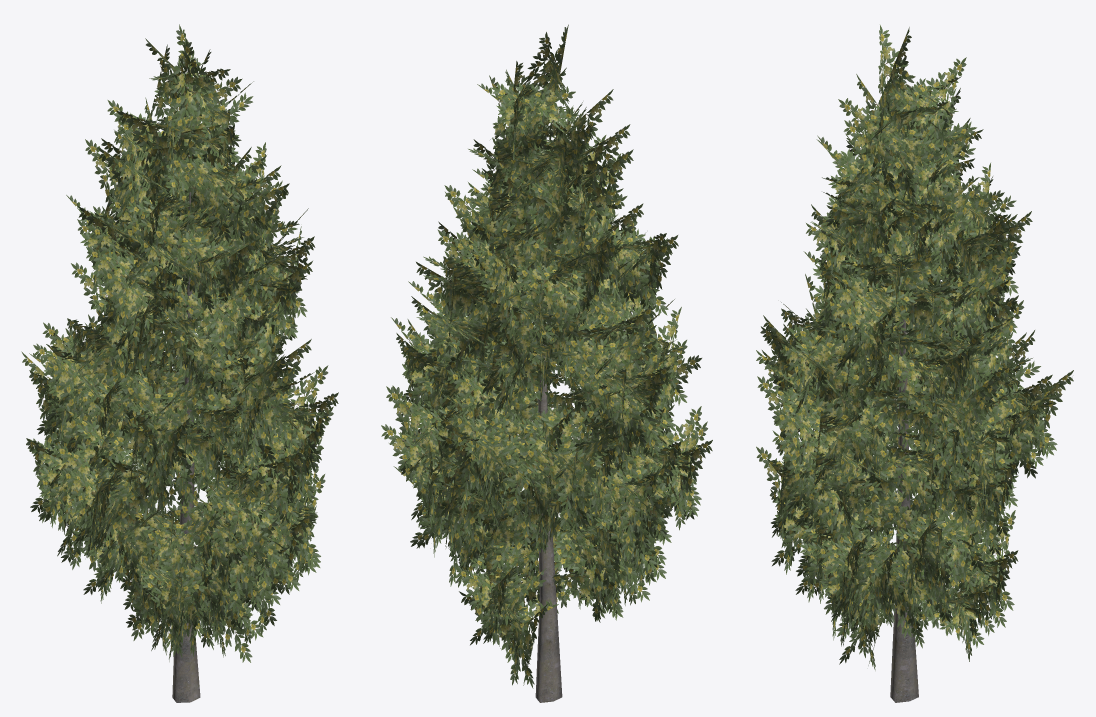
The model's file is Laurus_Nobilis_Spring_Adult.glb.
3 views of the same model, side by side, from view 1: azimuth 30°, elevation 25°; view 2: azimuth 150°, elevation 25°; view 3: azimuth 270°, elevation 25° (orthographic).
Parts seen in each view (by area): view 1: Laurus_Nobilis_Spring_Adult__LOD3; view 2: Laurus_Nobilis_Spring_Adult__LOD3; view 3: Laurus_Nobilis_Spring_Adult__LOD3.
Boxes of the visible parts, x1,y1,x2,y2 form: Laurus_Nobilis_Spring_Adult__LOD3: (21, 24, 338, 702); Laurus_Nobilis_Spring_Adult__LOD3: (381, 24, 712, 702); Laurus_Nobilis_Spring_Adult__LOD3: (756, 25, 1073, 702).
Size of the model in its own units: 1.85 by 4.14 by 1.85.
2 materials, 2 textured.
